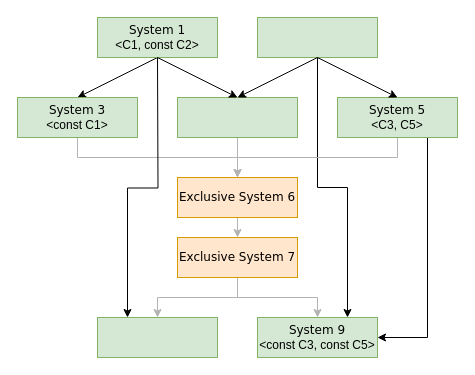
The diagram is 475 pixels wide and 375 high, and some of its shapes have lost their labels. Here are the shapes that lost their labels. From the top down, the box of each, then its label:
(256, 16, 378, 58): System 2 <C3, C4>
(176, 96, 298, 138): System 4 <const C1, const C4>
(96, 316, 218, 358): System 8 <const C1, C6>
